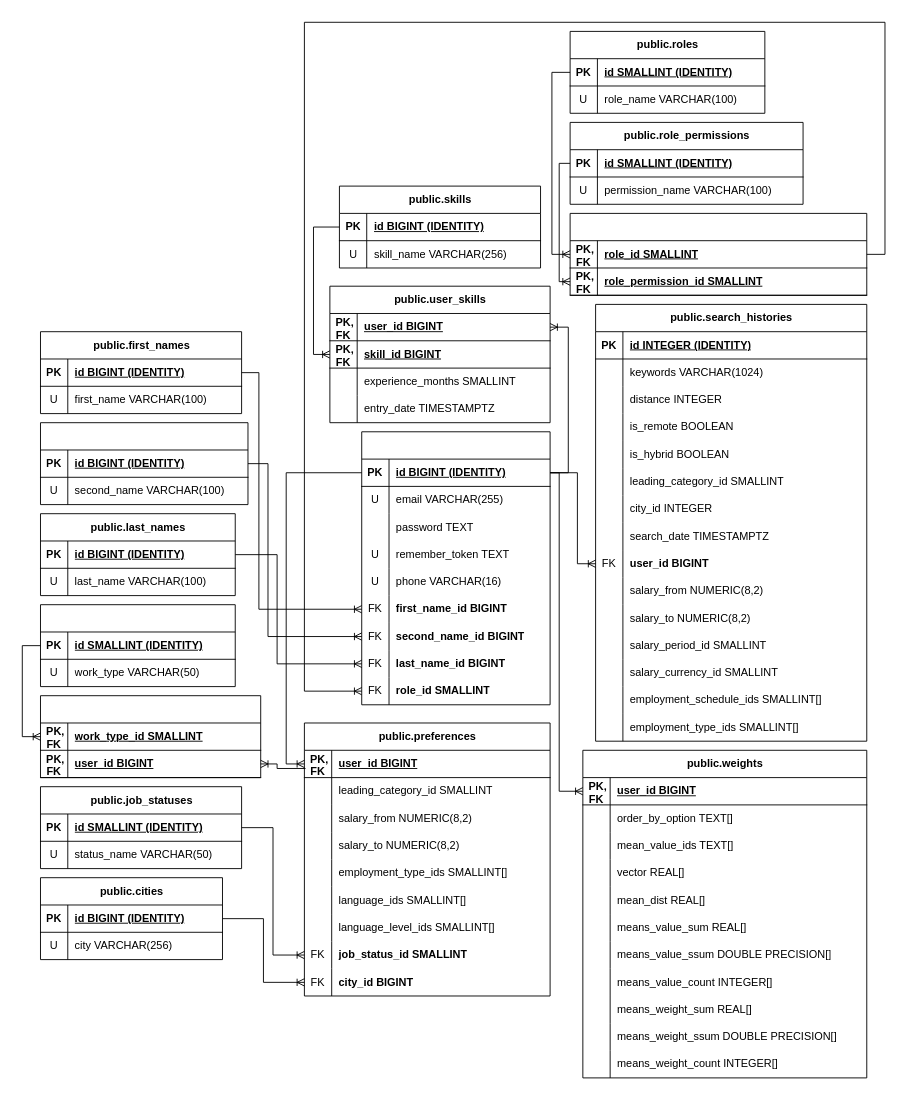
The diagram is 908 pixels wide and 1094 high, and some of its shapes have lost their labels. Each missing label, with the box of its shape:
public.role_permissions_roles_junction: (569, 212, 867, 295)
public.second_names: (40, 422, 248, 505)
public.users: (361, 431, 550, 705)
public.work_types: (40, 604, 235, 687)
public.work_types_junction: (40, 695, 261, 778)
